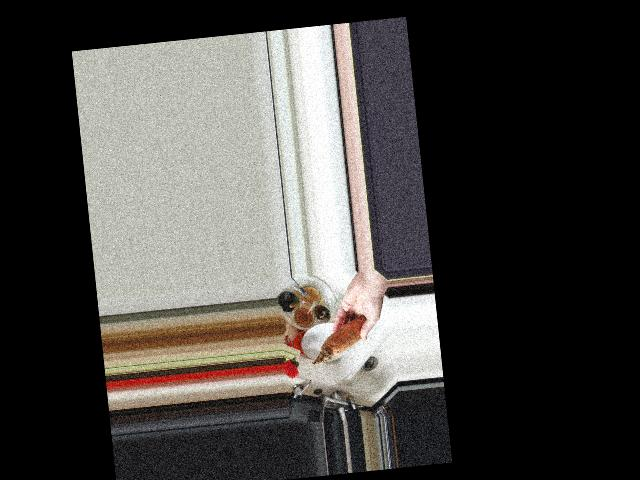sweet_potato: (306, 311, 375, 365)
